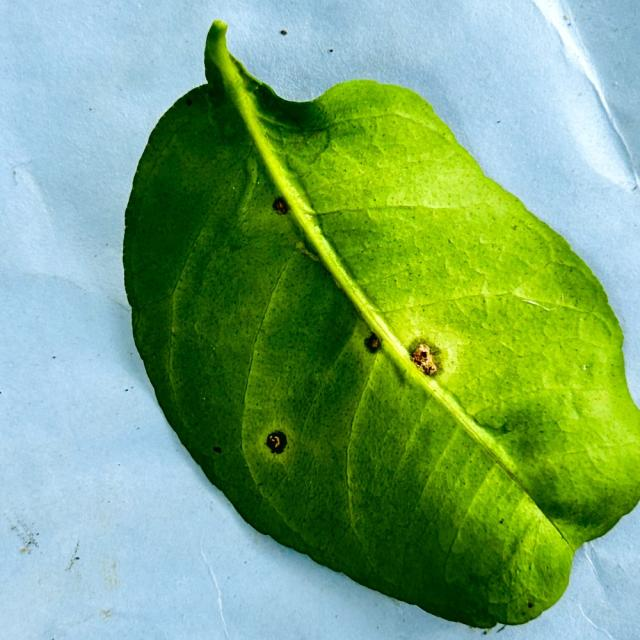Anthracnose: (475, 403, 562, 446), (394, 339, 450, 387), (289, 218, 331, 265), (265, 430, 288, 455), (363, 332, 381, 351), (272, 196, 289, 214)
Lemon: (121, 21, 639, 632)
